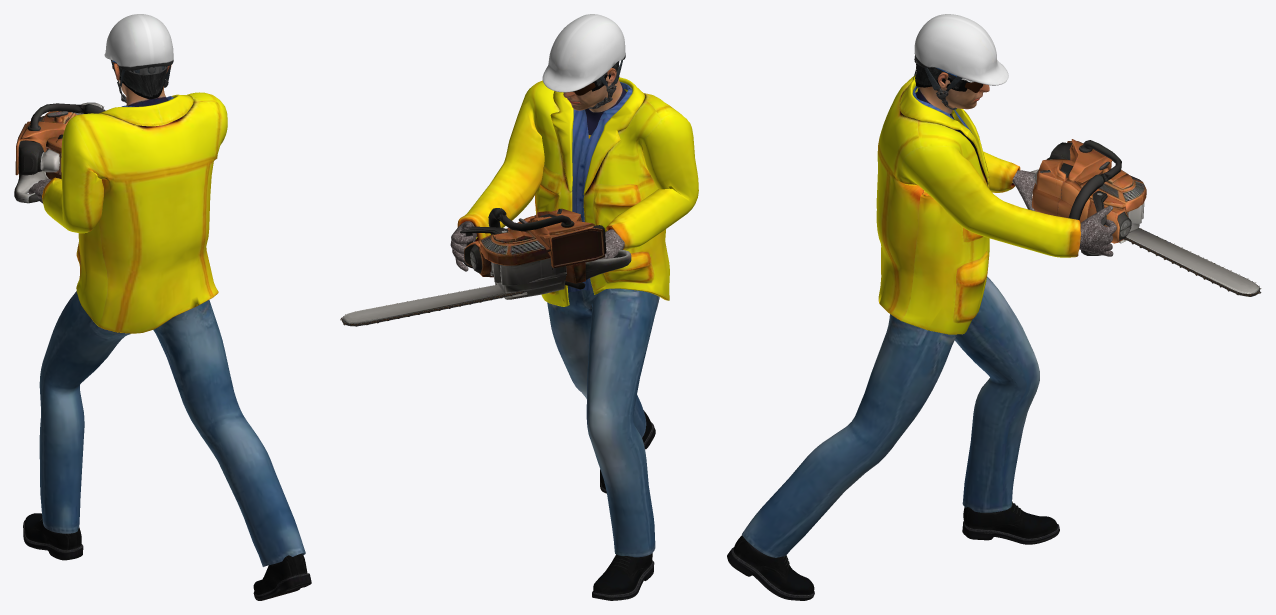
Rendered from worker-chainsaw.glb.
The picture shows the model from 3 angles, left to right: view 1: azimuth 30°, elevation 25°; view 2: azimuth 150°, elevation 25°; view 3: azimuth 270°, elevation 25°; orthographic projection. The views are drawn at different scales.
Visible parts, largest first — view 1: FbxMesh_5da61bb2-9a39-4176-bdba-1422463a6688_0, FbxMesh_02e8c9ea-f957-44b9-b03e-27bd5a71f53e_0, FbxMesh_38dd32c4-4fb6-4801-bc1b-1a3f0c8214f6_0, FbxMesh_6297fd1d-c982-4654-b070-f7469ca3f285_0, FbxMesh_e2e5e49b-30f9-4c30-a71f-904441f55978_0, FbxMesh_fc75db0c-3a4d-4f28-9743-1787e184c637_0; view 2: FbxMesh_5da61bb2-9a39-4176-bdba-1422463a6688_0, FbxMesh_02e8c9ea-f957-44b9-b03e-27bd5a71f53e_0, FbxMesh_38dd32c4-4fb6-4801-bc1b-1a3f0c8214f6_0, FbxMesh_6297fd1d-c982-4654-b070-f7469ca3f285_0, FbxMesh_fc75db0c-3a4d-4f28-9743-1787e184c637_0, FbxMesh_bcc2176b-1ce2-4037-b8a1-e344275d25e3_0; view 3: FbxMesh_5da61bb2-9a39-4176-bdba-1422463a6688_0, FbxMesh_02e8c9ea-f957-44b9-b03e-27bd5a71f53e_0, FbxMesh_6297fd1d-c982-4654-b070-f7469ca3f285_0, FbxMesh_38dd32c4-4fb6-4801-bc1b-1a3f0c8214f6_0, FbxMesh_bcc2176b-1ce2-4037-b8a1-e344275d25e3_0, FbxMesh_fc75db0c-3a4d-4f28-9743-1787e184c637_0.
Boxes of the visible parts, x1,y1,x2,y2 form: FbxMesh_5da61bb2-9a39-4176-bdba-1422463a6688_0: (39,92,305,566); FbxMesh_02e8c9ea-f957-44b9-b03e-27bd5a71f53e_0: (14,102,105,203); FbxMesh_38dd32c4-4fb6-4801-bc1b-1a3f0c8214f6_0: (104,14,173,102); FbxMesh_6297fd1d-c982-4654-b070-f7469ca3f285_0: (23,513,311,600); FbxMesh_e2e5e49b-30f9-4c30-a71f-904441f55978_0: (115,62,168,99); FbxMesh_fc75db0c-3a4d-4f28-9743-1787e184c637_0: (114,63,171,106); FbxMesh_5da61bb2-9a39-4176-bdba-1422463a6688_0: (457,77,698,557); FbxMesh_02e8c9ea-f957-44b9-b03e-27bd5a71f53e_0: (340,208,631,326); FbxMesh_38dd32c4-4fb6-4801-bc1b-1a3f0c8214f6_0: (542,14,625,108); FbxMesh_6297fd1d-c982-4654-b070-f7469ca3f285_0: (592,410,655,600); FbxMesh_fc75db0c-3a4d-4f28-9743-1787e184c637_0: (563,68,626,135); FbxMesh_bcc2176b-1ce2-4037-b8a1-e344275d25e3_0: (450,221,624,271); FbxMesh_5da61bb2-9a39-4176-bdba-1422463a6688_0: (742,75,1080,557); FbxMesh_02e8c9ea-f957-44b9-b03e-27bd5a71f53e_0: (1030,139,1261,296); FbxMesh_6297fd1d-c982-4654-b070-f7469ca3f285_0: (727,501,1059,600); FbxMesh_38dd32c4-4fb6-4801-bc1b-1a3f0c8214f6_0: (914,14,1008,109); FbxMesh_bcc2176b-1ce2-4037-b8a1-e344275d25e3_0: (1012,170,1116,256); FbxMesh_fc75db0c-3a4d-4f28-9743-1787e184c637_0: (915,72,989,119).
Bounding box in the file's own units: 0.672 × 1.76 × 1.54.
Materials: 10 (10 with a texture image).
